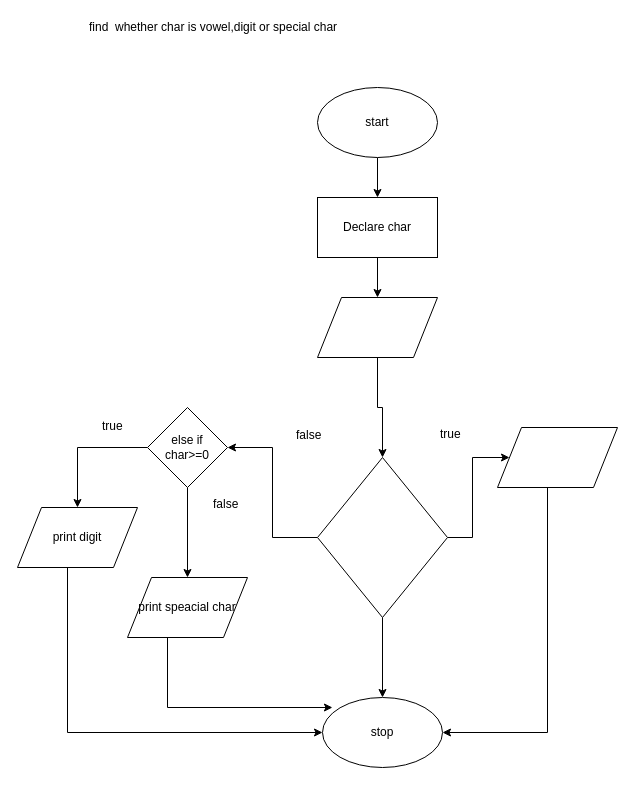
Some shapes in this 635 by 785 pixel diagram are drawn without their labels. Each missing label, with the centre of its shape:
if(char>='a'&& (char<='z'): point (382, 537)
print alphabet: point (557, 457)
read char: point (377, 327)
